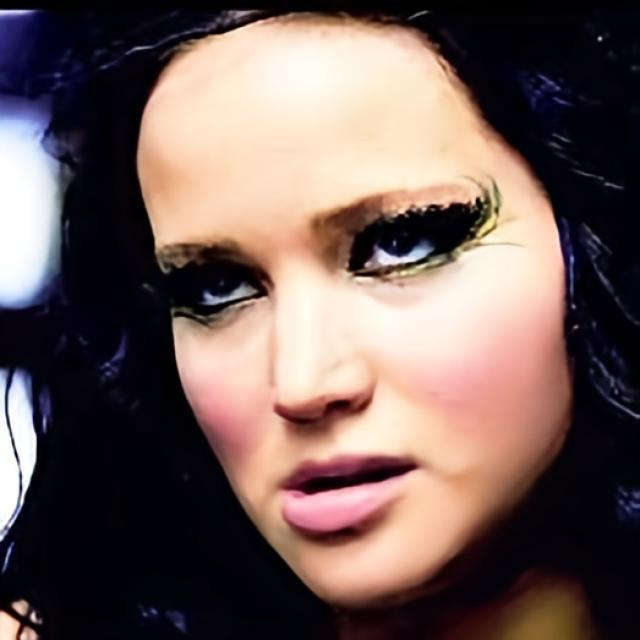anger: (130, 16, 568, 616)
